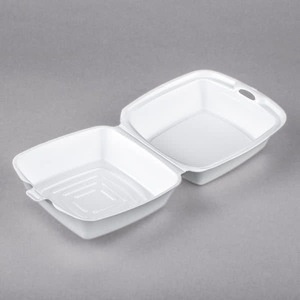Nonrec_Plastic: (1, 62, 292, 245)
